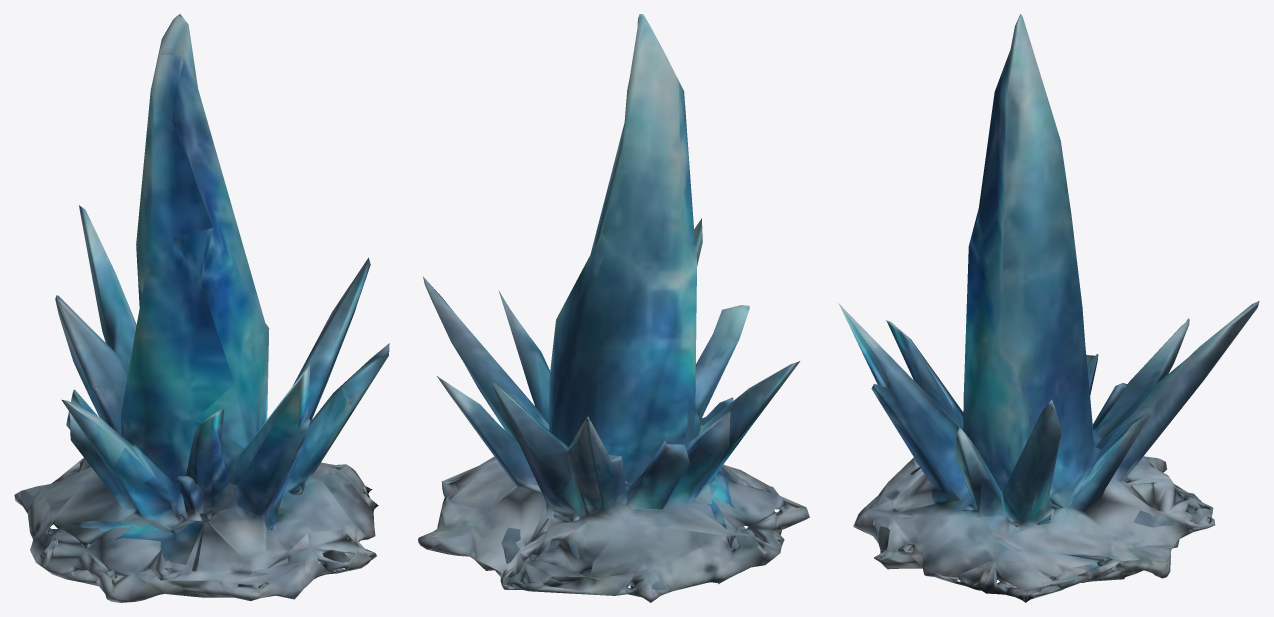
File: NAT_Crystal4_lod.glb
The picture shows the model from 3 angles, left to right: view 1: azimuth 30°, elevation 25°; view 2: azimuth 150°, elevation 25°; view 3: azimuth 270°, elevation 25°; orthographic projection. The views are drawn at different scales.
Visible parts, largest first — view 1: Object_2; view 2: Object_2; view 3: Object_2.
Part boxes in pixels (x1,y1,x2,y2): Object_2: [14, 14, 389, 602]; Object_2: [418, 14, 809, 602]; Object_2: [838, 14, 1259, 602].
Bounding box in the file's own units: 1.29 × 1.92 × 1.43.
1 material, 1 textured.
